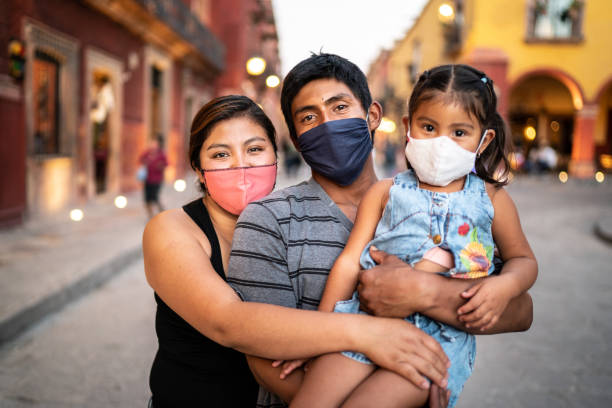with mask: (404, 67, 501, 196), (286, 72, 380, 184), (190, 107, 280, 209)
